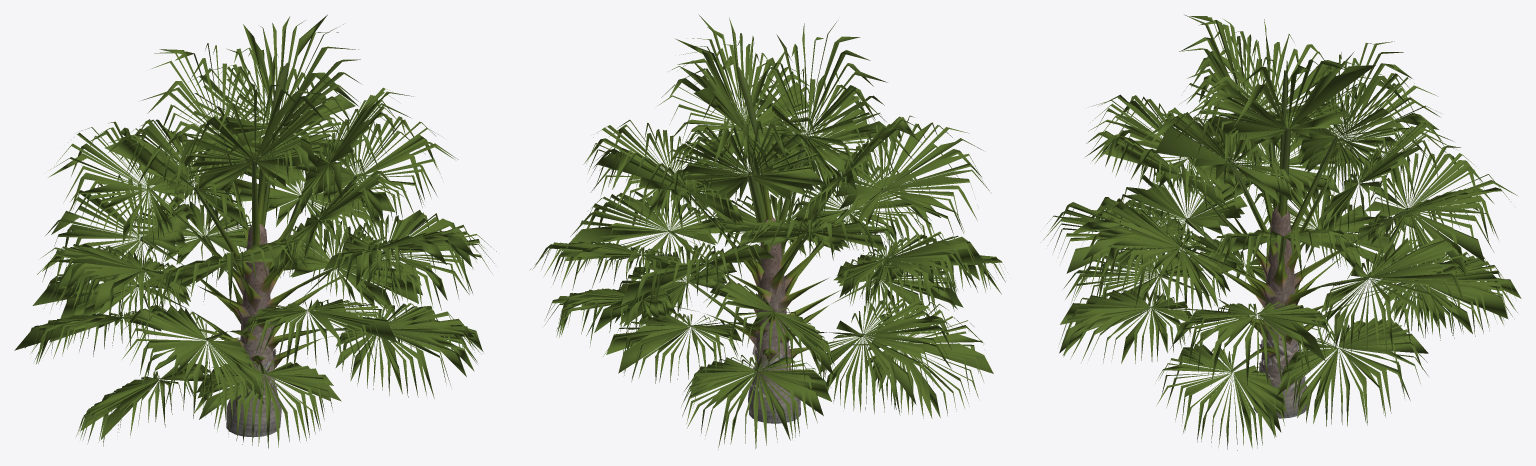
Rendered from calfan21.glb.
3 views of the same model, side by side, from view 1: azimuth 30°, elevation 25°; view 2: azimuth 150°, elevation 25°; view 3: azimuth 270°, elevation 25° (orthographic). The views are drawn at different scales.
Parts seen in each view (by area): view 1: Washingtonia_filifera_HD; view 2: Washingtonia_filifera_HD; view 3: Washingtonia_filifera_HD.
Boxes of the visible parts, x1,y1,x2,y2 form: Washingtonia_filifera_HD: (14, 14, 496, 448); Washingtonia_filifera_HD: (530, 14, 1007, 449); Washingtonia_filifera_HD: (1043, 14, 1521, 450).
Size of the model in its own units: 4.02 by 3.48 by 3.9.
9 materials, 9 textured.
